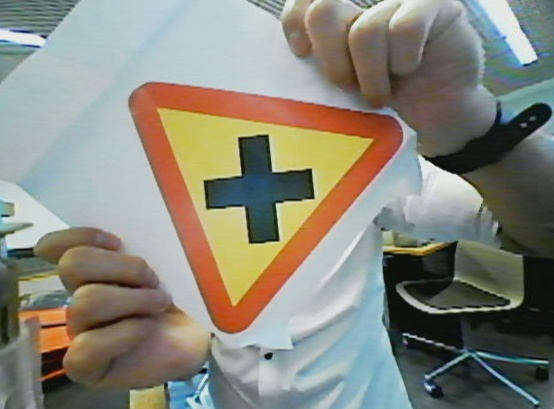junction: (119, 72, 416, 335)
